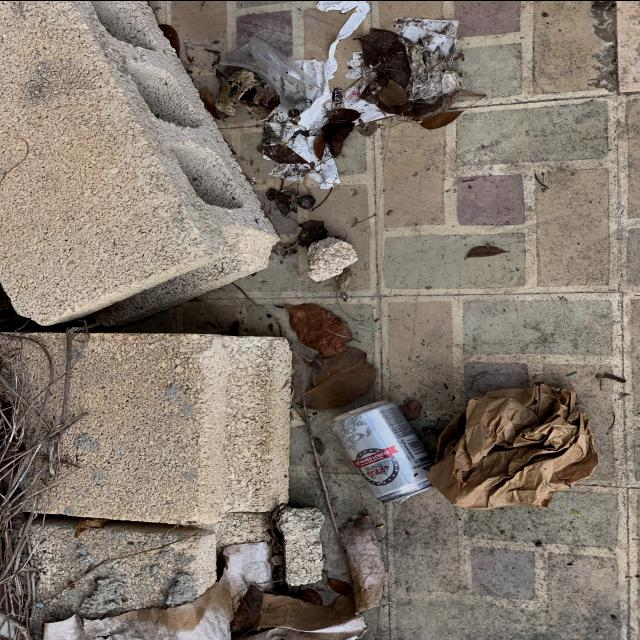Disposable plastic cup: (218, 36, 320, 112)
Drink can: (330, 398, 434, 502)
Normal paper: (263, 0, 371, 188), (344, 17, 465, 124)
Paper bag: (426, 382, 600, 510)
Pop tab: (396, 493, 414, 503)
